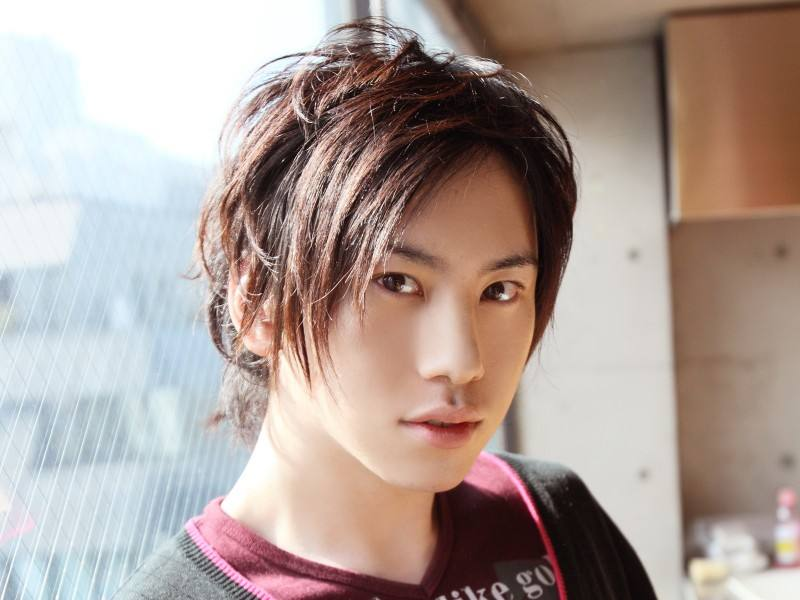person: (151, 39, 617, 591)
